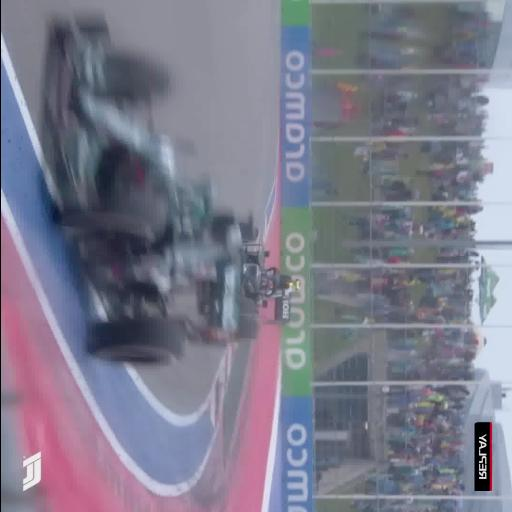f1_car: (46, 17, 254, 366), (241, 245, 291, 324), (243, 322, 257, 336), (236, 333, 239, 337), (250, 322, 251, 323)
